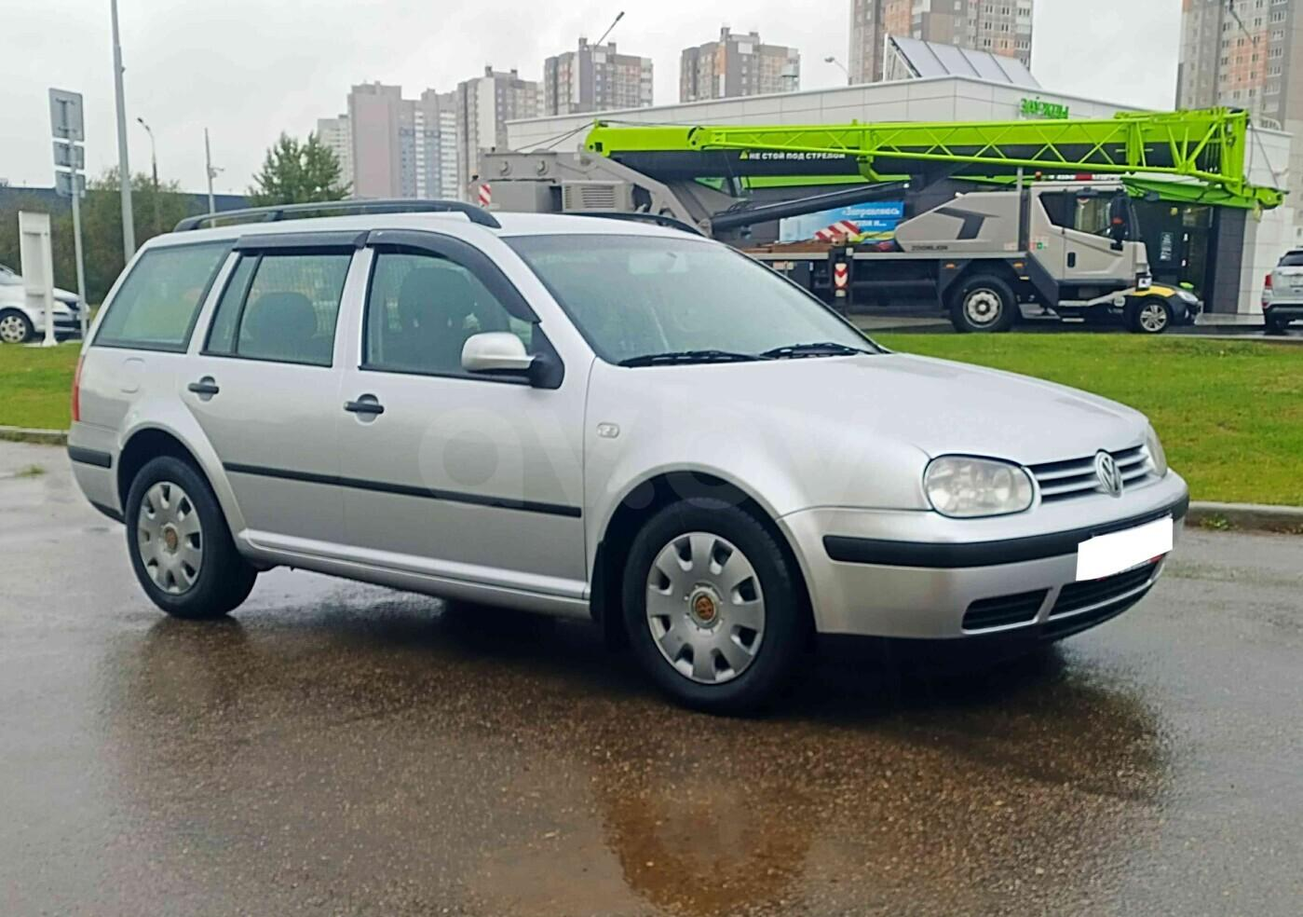Golf_1997-2006: (61, 217, 1187, 704)
